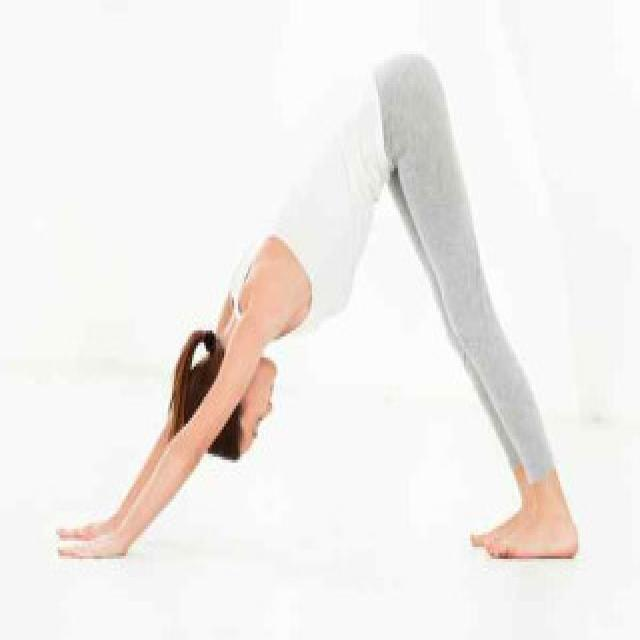yoga-pose downward: (56, 49, 582, 572)
